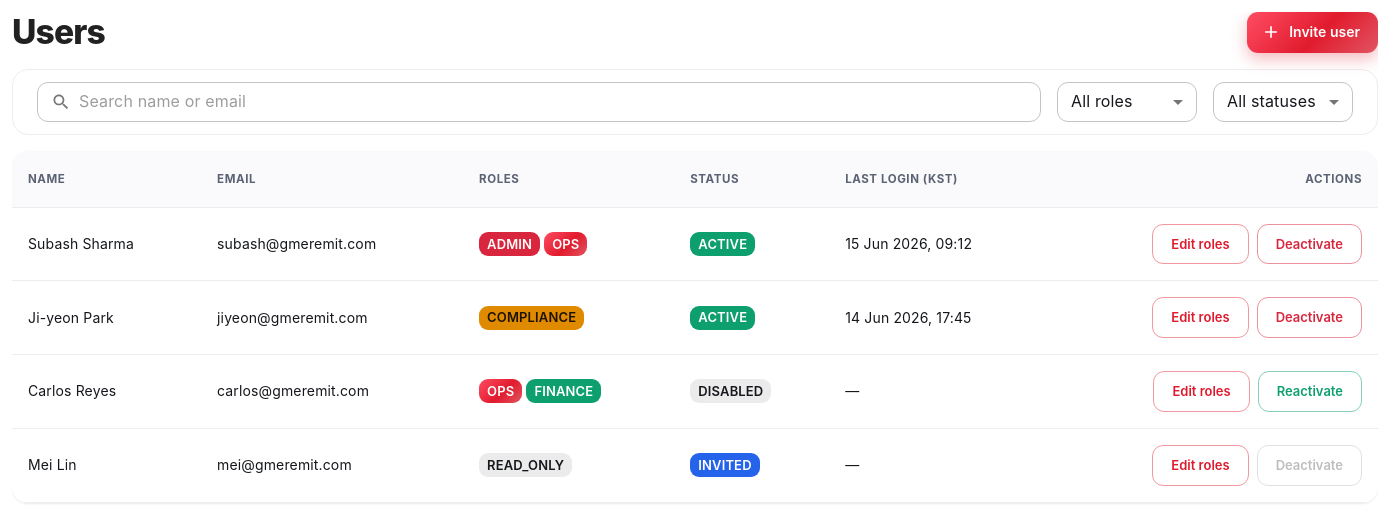
UsersPage › search filters by email
Type "carlos@" into the field named "search users" at (560, 102), box [79,82,1041,122]
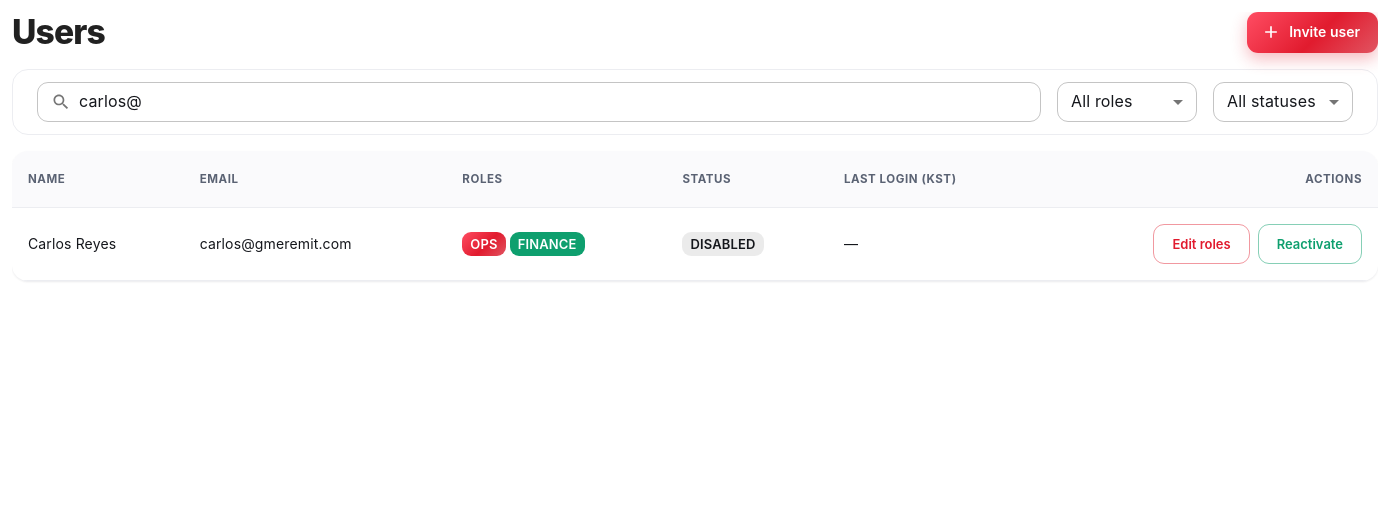
Expected: the text "Carlos Reyes" is shown, [12,207,184,281]
Expected: the text "Ji-yeon Park" is gone
